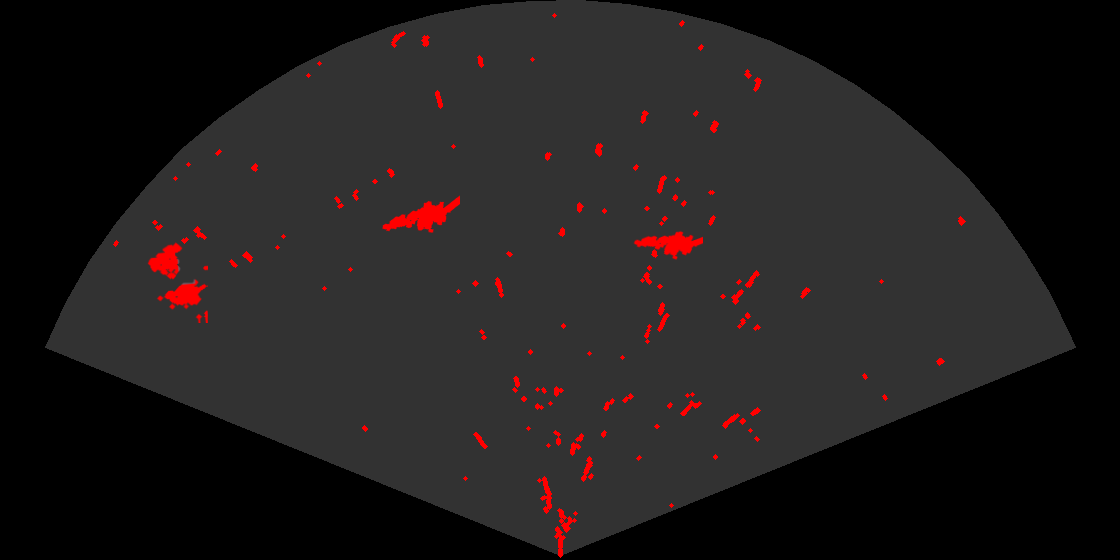cage: (146, 241, 208, 323)
frogman: (381, 194, 460, 234), (632, 229, 703, 261)
